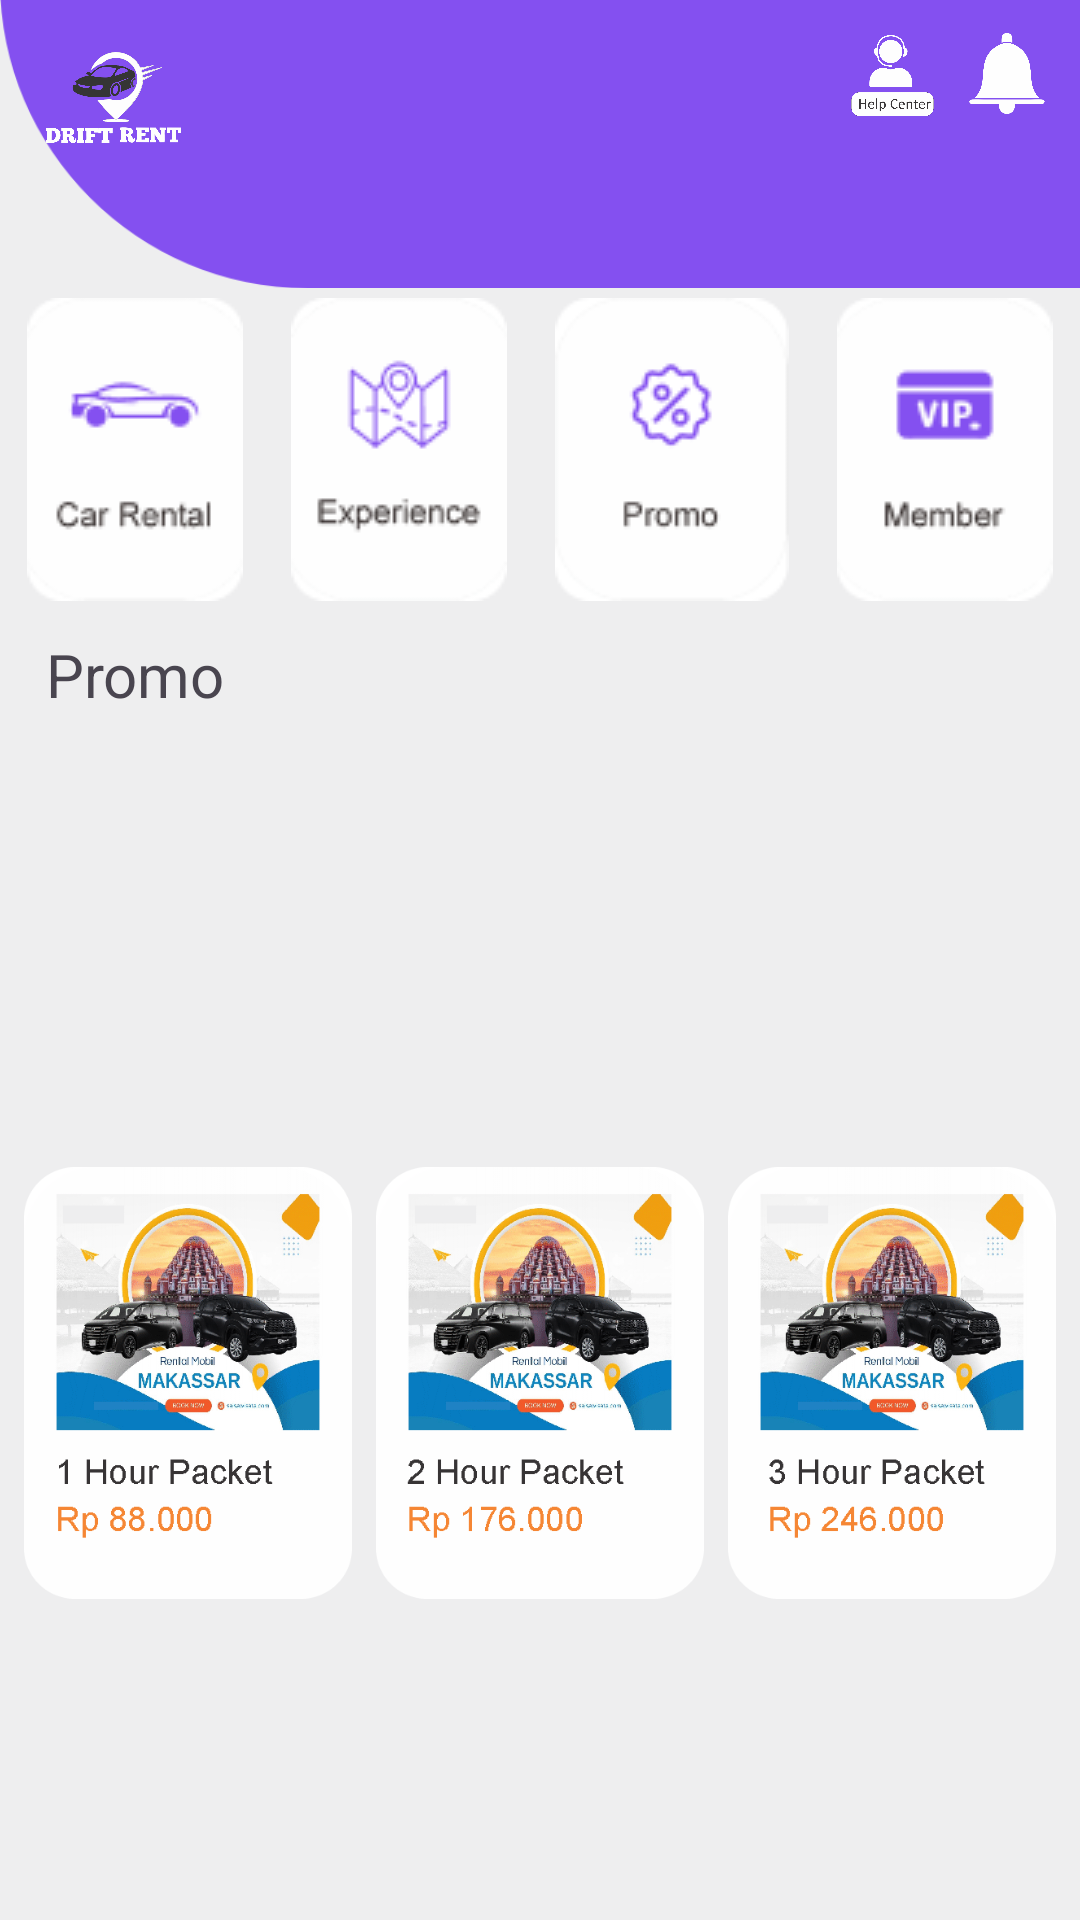

Icon bounding boxes for this 1080 × 1920 phone screenshot, format [left=x1, top=y1, right=x2, bottom=y2]:
carrentberanda: [left=61, top=52, right=181, bottom=143]
notif: [left=969, top=33, right=1045, bottom=114]
